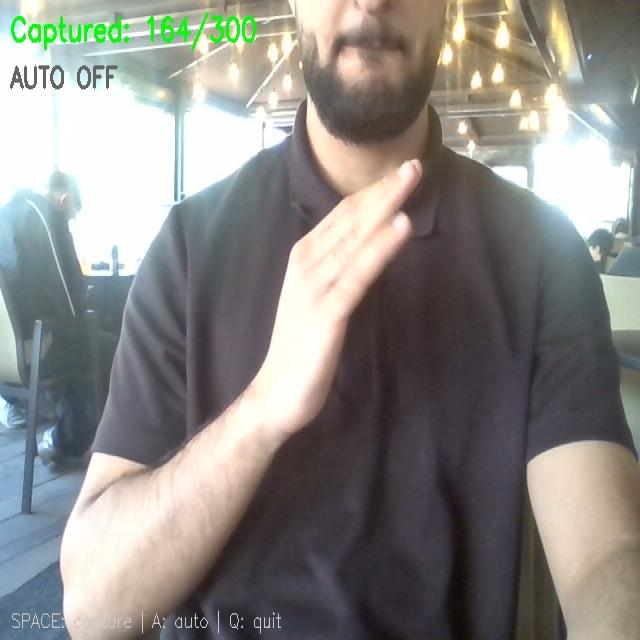Hand: (248, 160, 421, 435)
